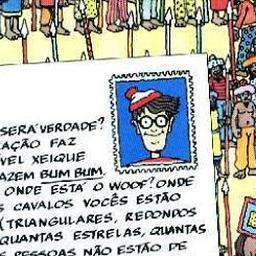waldo: (120, 85, 190, 164)
